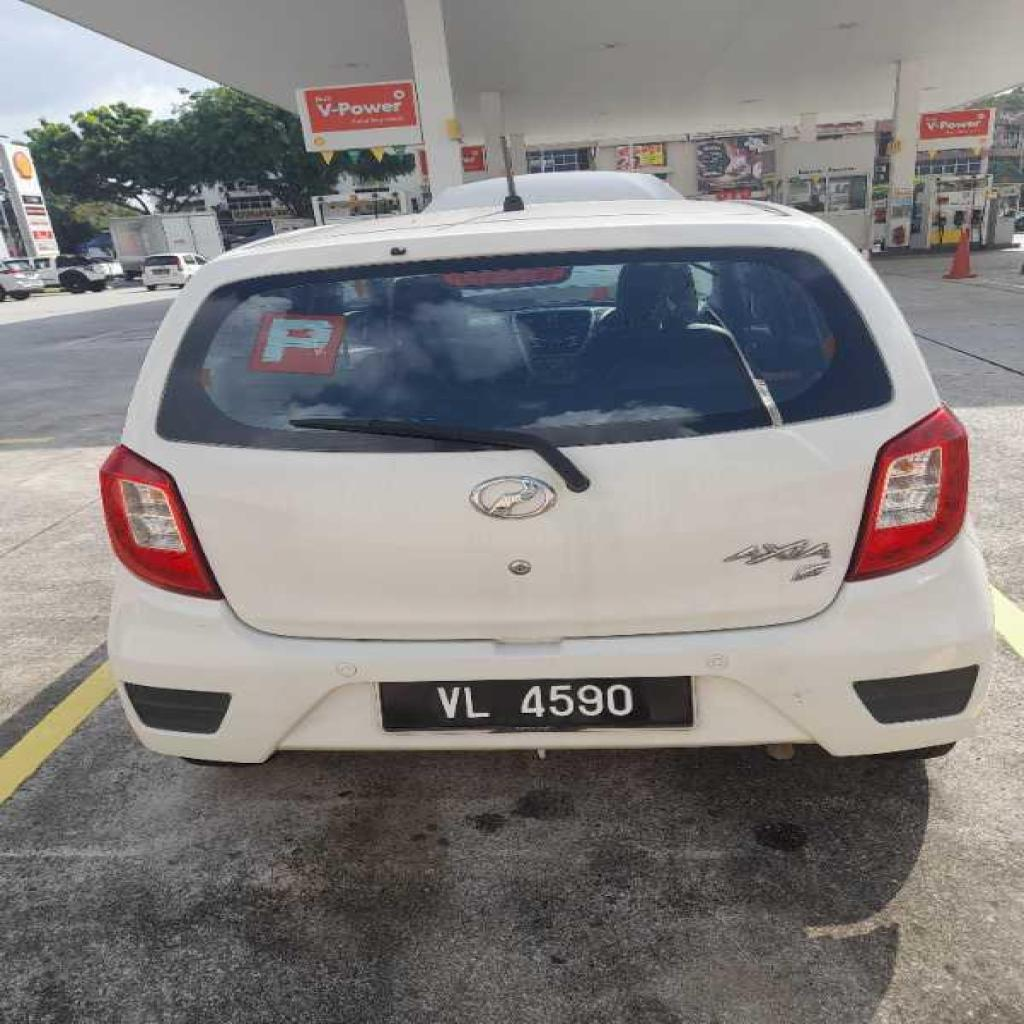car: (99, 198, 990, 760)
car plate: (379, 676, 693, 728)
